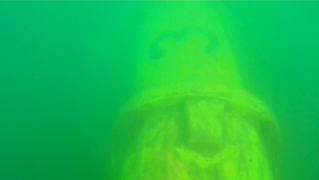3: (148, 25, 221, 60)
pipe: (110, 1, 284, 179)
